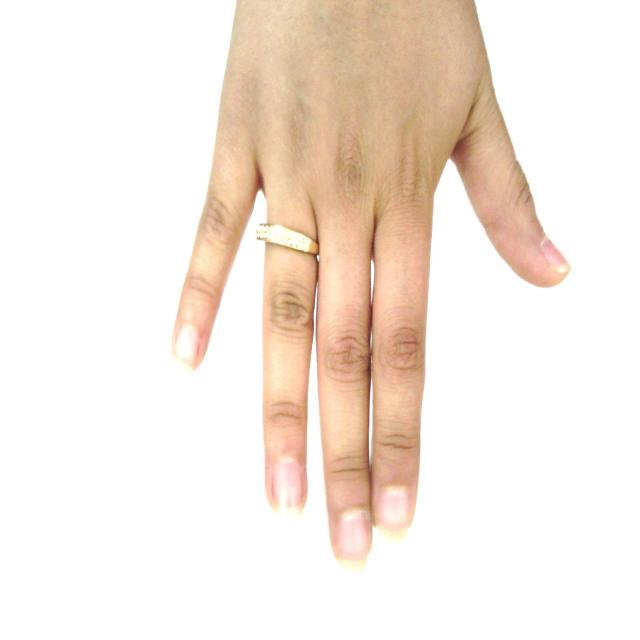Fingernail: (337, 511, 370, 570), (272, 458, 302, 516), (376, 486, 409, 535), (175, 326, 198, 366), (542, 238, 569, 270)
